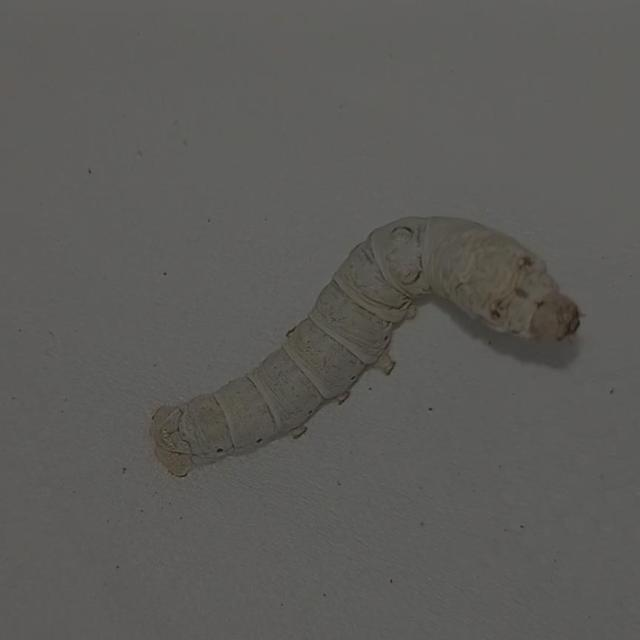Healthy: (140, 200, 588, 478)
